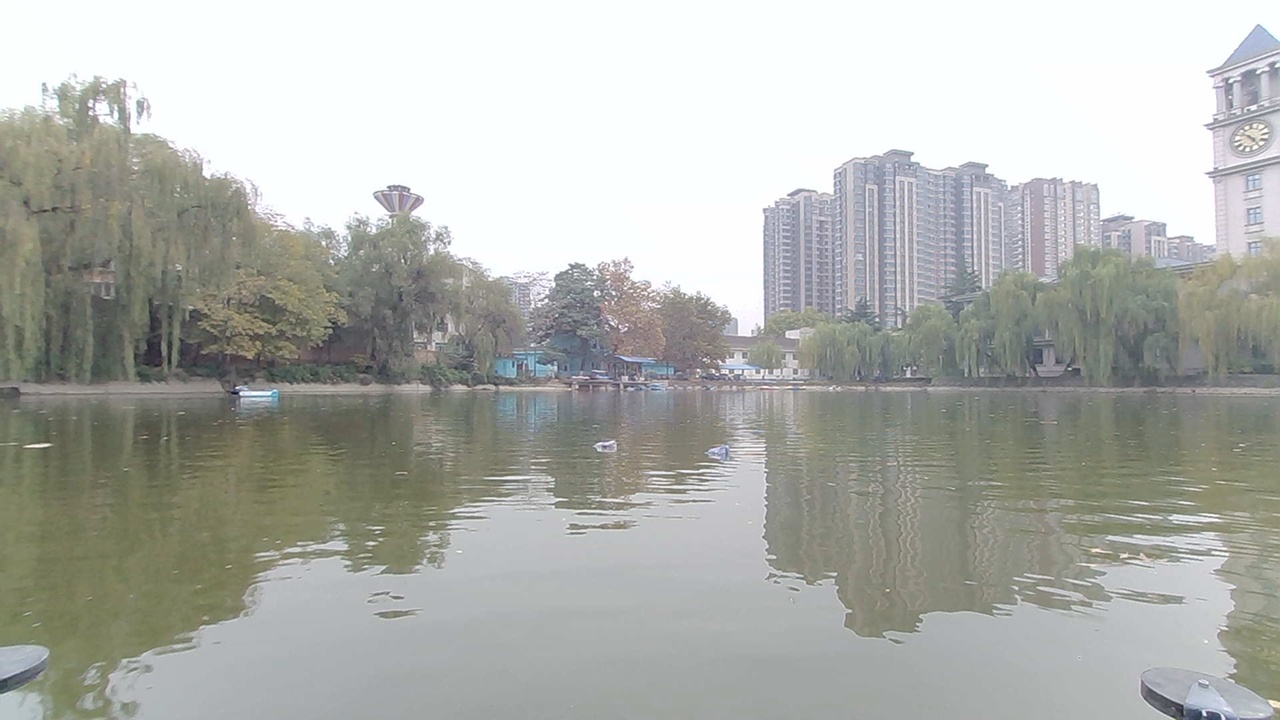bottle: (586, 428, 625, 454), (706, 446, 739, 463)
